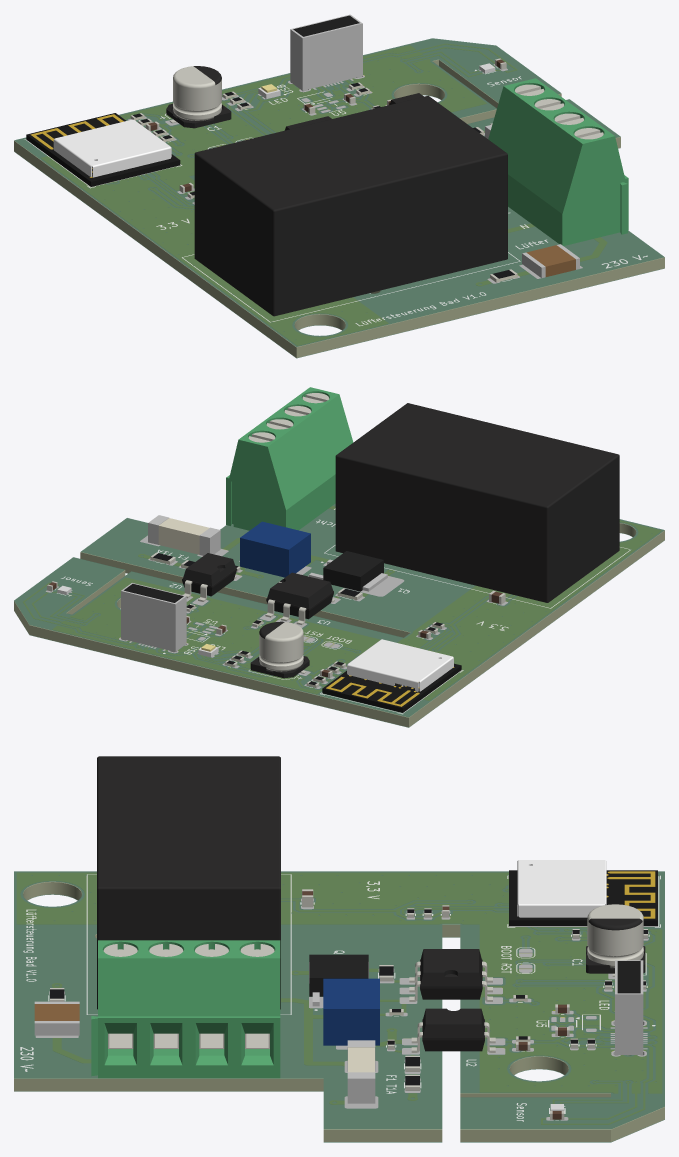
Rendered from platine_3d.glb.
3 renders of one model, top to bottom at view 1: azimuth 30°, elevation 25°; view 2: azimuth 150°, elevation 25°; view 3: azimuth 270°, elevation 25°, orthographic. The views are drawn at different scales.
Visible parts, largest first — view 1: =>[0:1:1:29], =>[0:1:1:433], =>[0:1:1:435], =>[0:1:1:428], =>[0:1:1:42], J2 (Shell) (×2), NAUO2, =>[0:1:1:420], NAUO335, =>[0:1:1:431], C2 (Shell), =>[0:1:1:429] (+1 smaller); view 2: =>[0:1:1:29], =>[0:1:1:433], =>[0:1:1:435], =>[0:1:1:428], =>[0:1:1:42], J2 (Shell) (×2), NAUO2, RV1 (Shell), =>[0:1:1:420], =>[0:1:1:44], NAUO335, =>[0:1:1:429] (+6 smaller); view 3: =>[0:1:1:433], =>[0:1:1:435], =>[0:1:1:29], =>[0:1:1:428], =>[0:1:1:42], NAUO2, RV1 (Shell), =>[0:1:1:44], =>[0:1:1:420], =>[0:1:1:429], =>[0:1:1:11], NAUO335 (+7 smaller).
Part boxes in pixels (x1,y1,x2,y2): =>[0:1:1:29]: (194, 96, 507, 316); =>[0:1:1:433]: (14, 38, 664, 346); =>[0:1:1:435]: (14, 39, 664, 357); =>[0:1:1:428]: (41, 44, 606, 345); =>[0:1:1:42]: (488, 78, 628, 245); J2 (Shell) (×2): (290, 14, 362, 90); NAUO2: (53, 119, 171, 177); =>[0:1:1:420]: (166, 66, 231, 128); NAUO335: (26, 113, 180, 186); =>[0:1:1:431]: (24, 67, 647, 326); C2 (Shell): (526, 245, 575, 276); =>[0:1:1:429]: (128, 64, 582, 283); =>[0:1:1:29]: (335, 403, 619, 602); =>[0:1:1:433]: (14, 503, 664, 717); =>[0:1:1:435]: (14, 505, 664, 727); =>[0:1:1:428]: (23, 506, 660, 700); =>[0:1:1:42]: (226, 387, 353, 530); J2 (Shell) (×2): (121, 583, 186, 651); NAUO2: (347, 639, 453, 691); RV1 (Shell): (240, 521, 310, 577); =>[0:1:1:420]: (250, 621, 309, 678); =>[0:1:1:44]: (265, 572, 334, 624); NAUO335: (322, 663, 461, 712); =>[0:1:1:429]: (46, 535, 507, 688); =>[0:1:1:433]: (14, 871, 664, 1129); =>[0:1:1:435]: (14, 872, 664, 1141); =>[0:1:1:29]: (97, 756, 280, 1009); =>[0:1:1:428]: (17, 873, 661, 1124); =>[0:1:1:42]: (91, 940, 280, 1078); NAUO2: (517, 860, 606, 917); RV1 (Shell): (323, 978, 379, 1045); =>[0:1:1:44]: (409, 949, 492, 1001); =>[0:1:1:420]: (586, 904, 645, 976); =>[0:1:1:429]: (35, 898, 648, 1120); =>[0:1:1:11]: (411, 1008, 495, 1052); NAUO335: (509, 870, 657, 926).
Bounding box in the file's own units: 0.068 × 0.02 × 0.0725.
